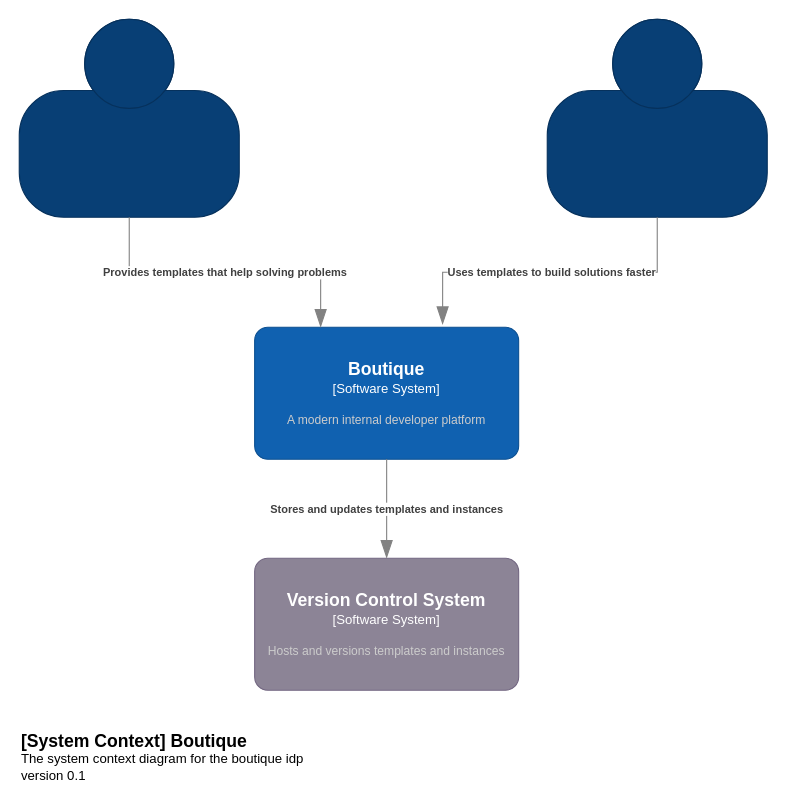
This 787x803 diagram has some shape labels left out. Each missing label, with the box of its shape:
Developer [Person] Someone that solves problems and builds solutions: (546, 18, 767, 217)
Template Provider [Person] Someone that wants developers to succeeed: (18, 18, 239, 217)
